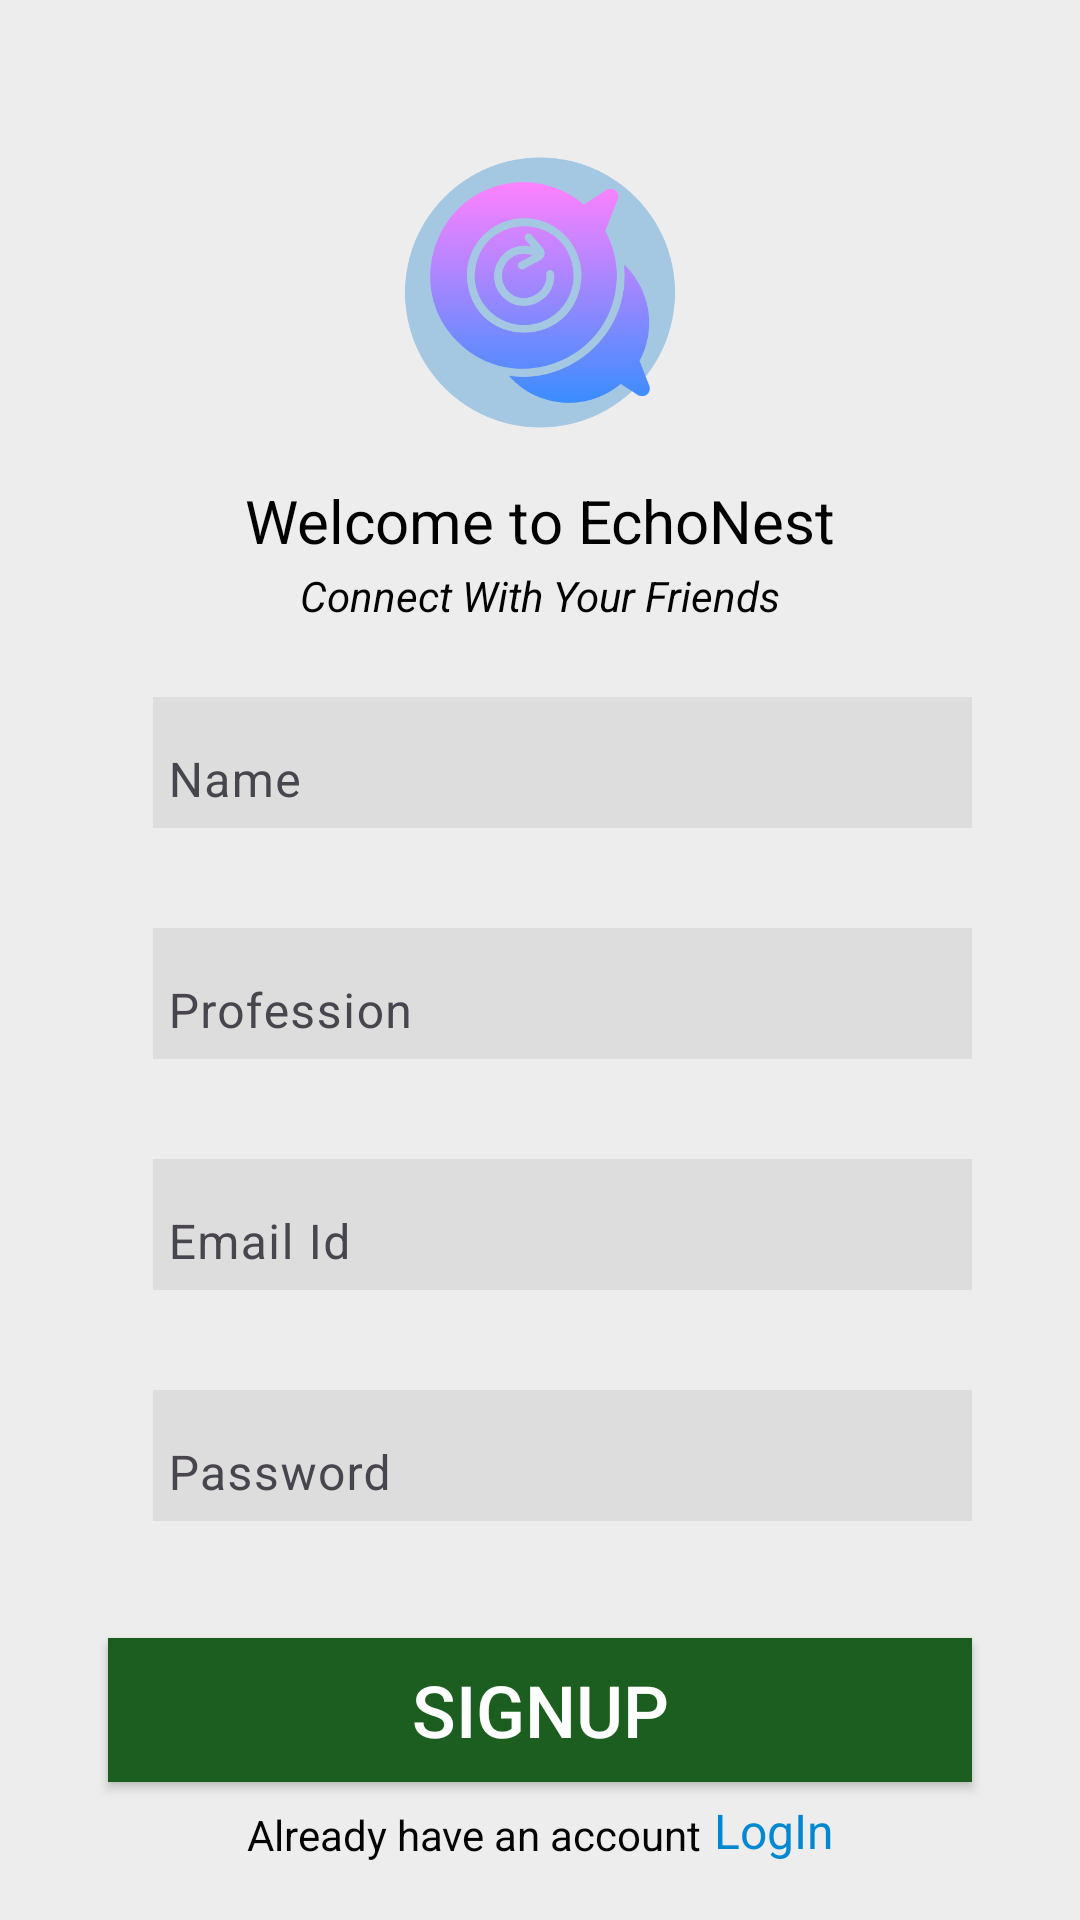

Screen size 1080w x 1920h. Icon name, then its center in pixels as [x,y]:
app: [540,292]
